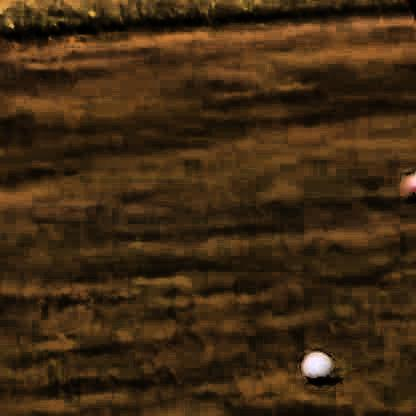golfball: (298, 348, 329, 379)
